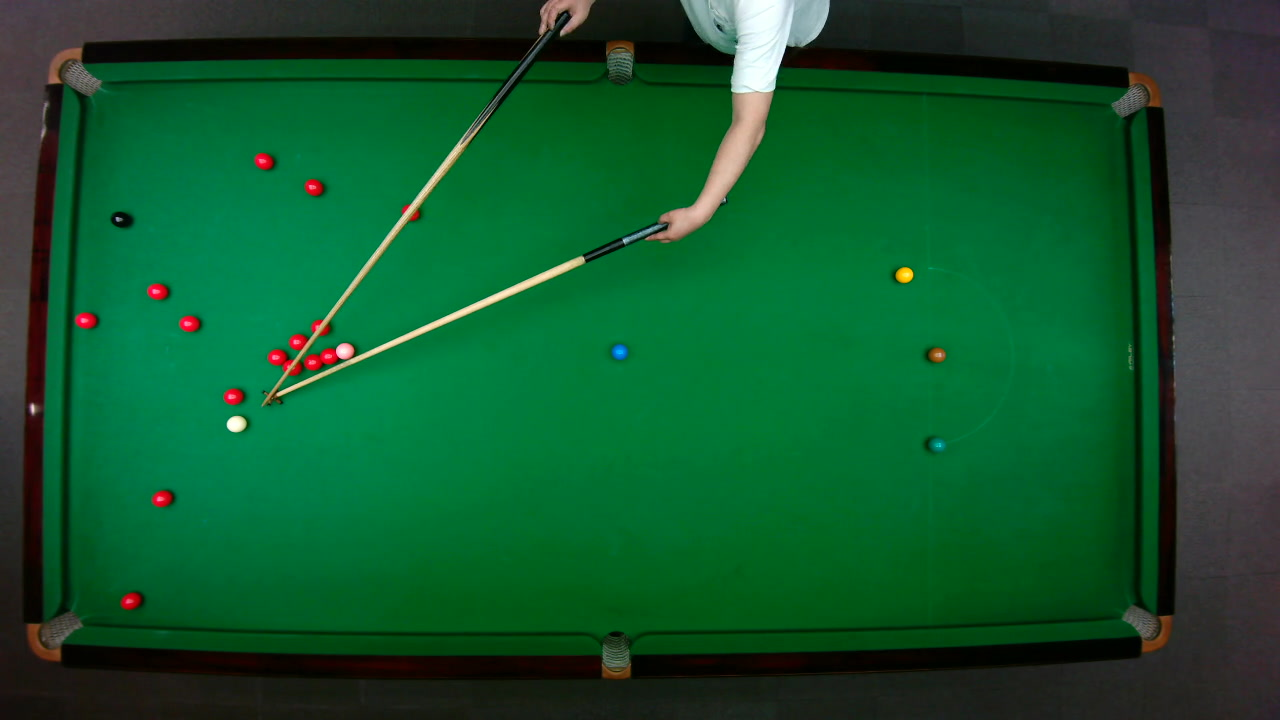bag: (25, 609, 84, 662), (45, 46, 102, 96), (1119, 603, 1171, 652), (1108, 71, 1161, 118), (600, 629, 629, 680), (605, 38, 634, 85)
black: (109, 210, 130, 228)
blue: (610, 343, 628, 360)
brown: (926, 346, 945, 362)
cue: (257, 1, 573, 413)
green: (926, 435, 946, 452)
pink: (334, 341, 354, 359)
red: (118, 590, 142, 610), (149, 488, 173, 507), (145, 282, 169, 300), (73, 310, 97, 328), (302, 177, 324, 196), (265, 348, 288, 366), (221, 386, 244, 404), (177, 314, 200, 332), (253, 151, 274, 170), (287, 332, 306, 350), (302, 353, 322, 369), (319, 347, 336, 364)
white: (224, 414, 247, 433)
yellow: (893, 265, 914, 283)
zone: (926, 266, 1013, 444)
